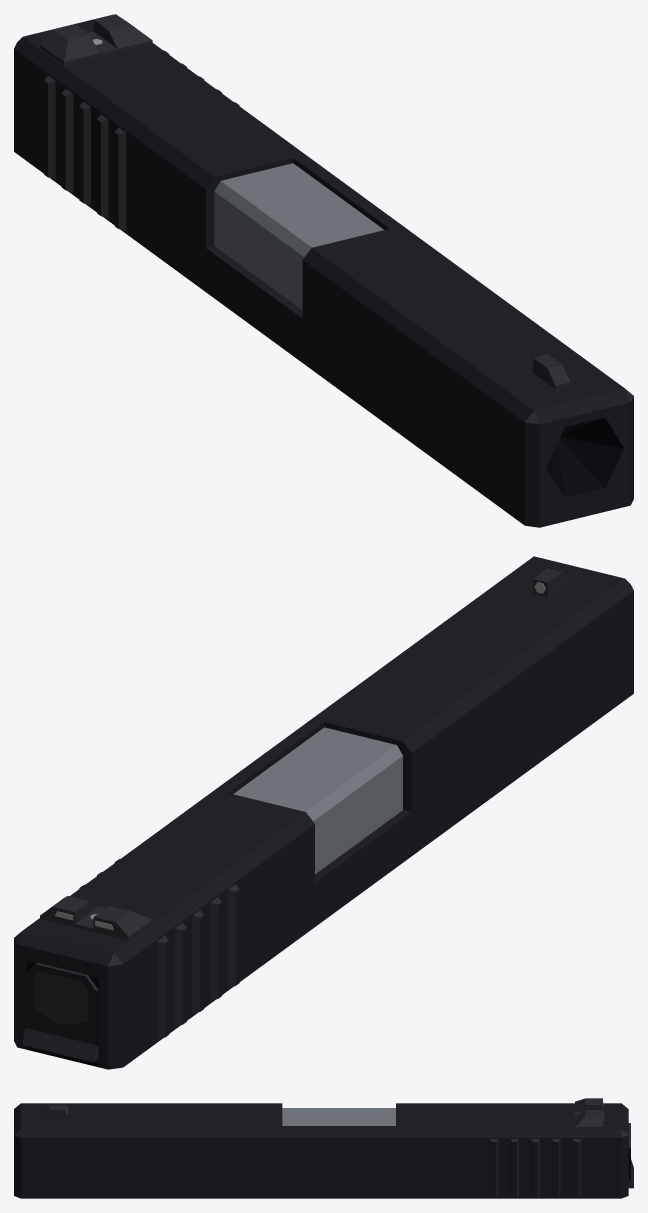
File: MW1_Slide_9mm_01.fbx
3 renders of one model, top to bottom at view 1: azimuth 30°, elevation 25°; view 2: azimuth 150°, elevation 25°; view 3: azimuth 270°, elevation 25°, orthographic. The views are drawn at different scales.
Parts seen in each view (by area): view 1: Slide, Slide_9mm_01; view 2: Slide, Slide_9mm_01; view 3: Slide, Slide_9mm_01.
Boxes of the visible parts, x1,y1,x2,y2 form: Slide: (14,14,633,527); Slide_9mm_01: (214,163,383,309); Slide: (14,556,633,1069); Slide_9mm_01: (233,727,402,874); Slide: (14,1098,633,1198); Slide_9mm_01: (282,1108,395,1125).
Bounding box in the file's own units: 2.78 × 2.81 × 20.92.
